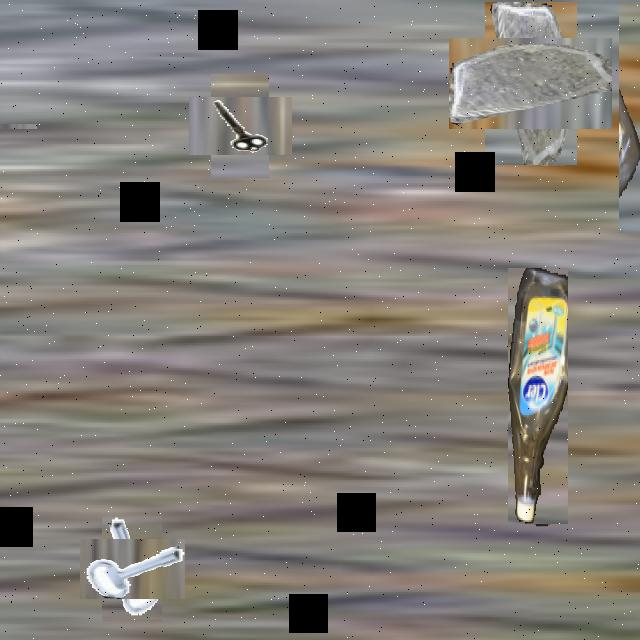glass: (467, 20, 595, 147)
metal: (90, 527, 174, 611), (200, 86, 280, 166), (0, 107, 21, 144)
plastic: (508, 268, 568, 524), (619, 2, 640, 233)
